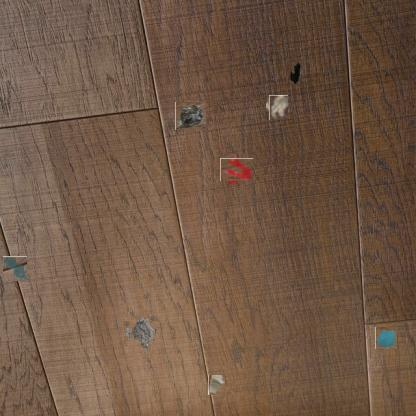dirty: (126, 318, 158, 350), (176, 102, 206, 131), (267, 97, 290, 119), (375, 328, 397, 349), (208, 375, 225, 395), (287, 60, 301, 84)
liquid: (223, 156, 250, 183), (3, 257, 28, 281)
